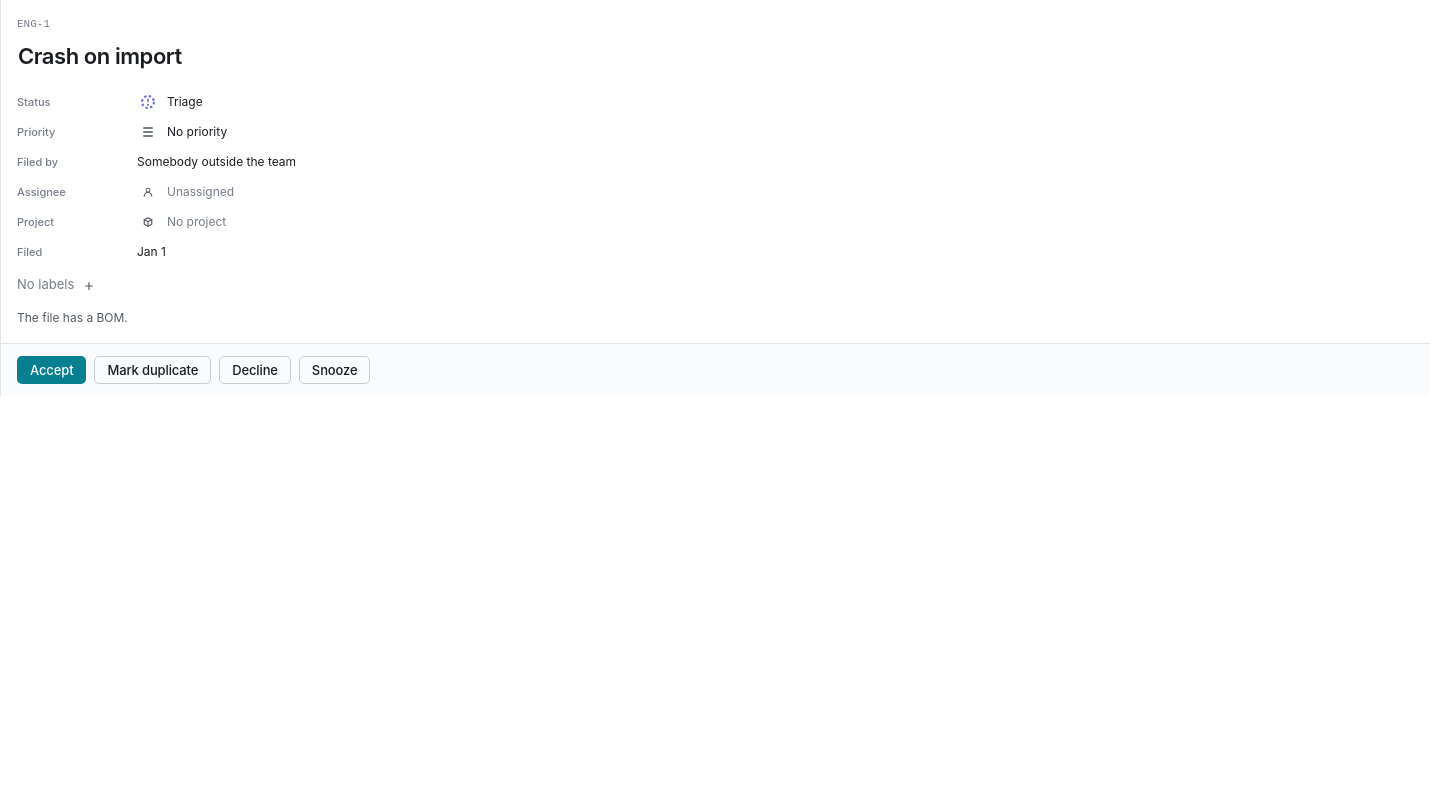
Test: reaching the pane menu without a pointer › opens on the pane issue once the keyboard is inside the pane
Click the link "ENG-1" at (34, 24), box [17, 16, 50, 32]
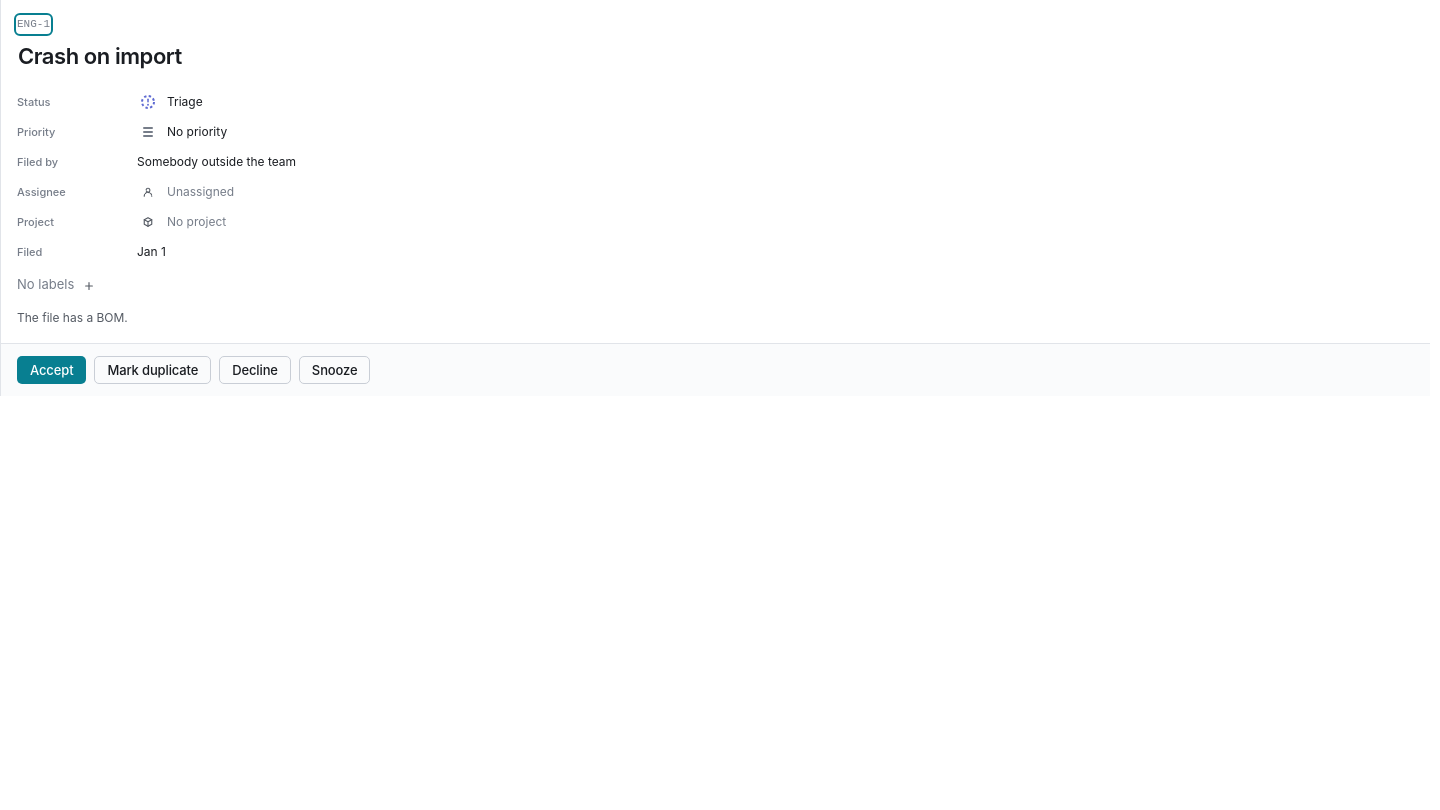
Type keys "."
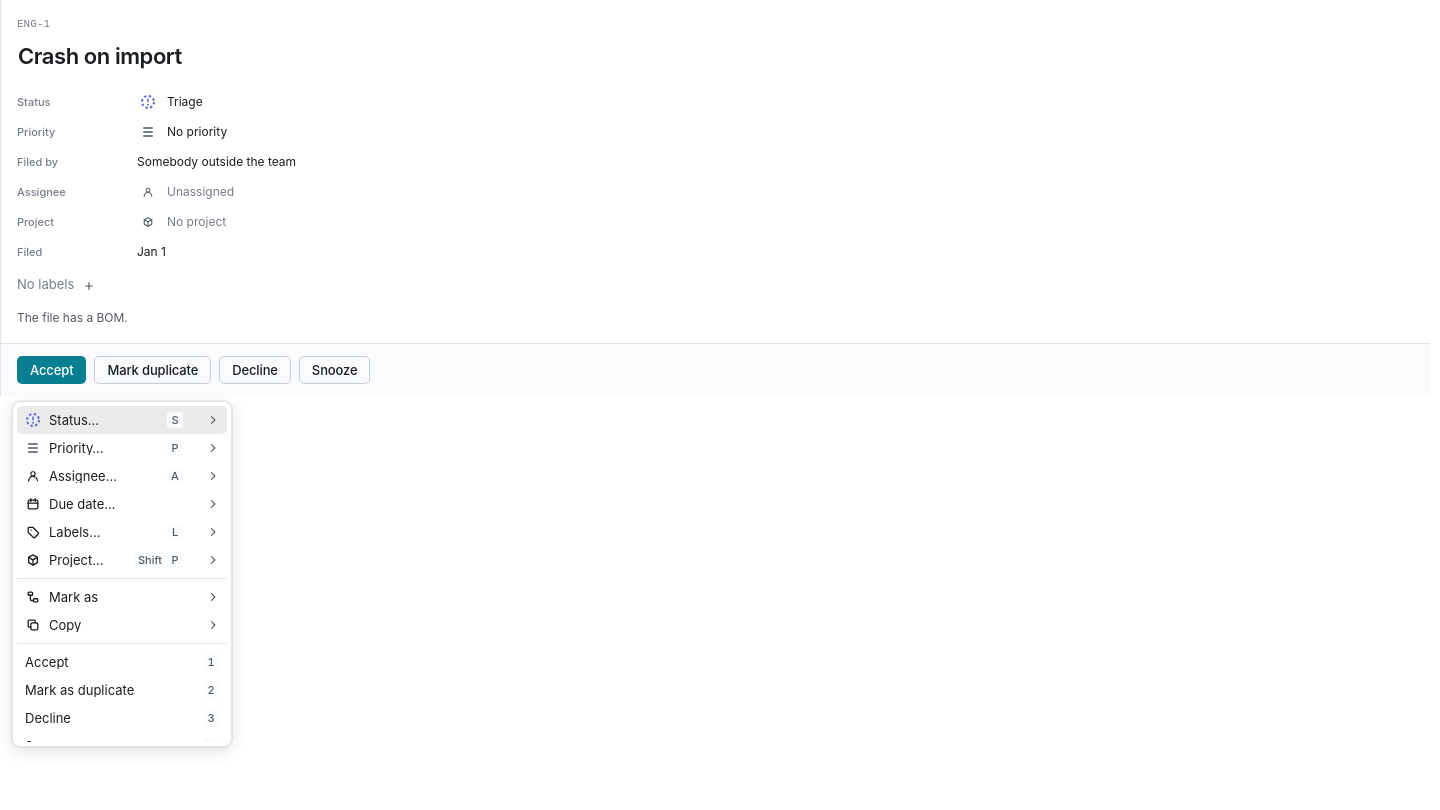
Check: the menu named "Actions for ENG-1" is shown, box [17, 406, 227, 742]
